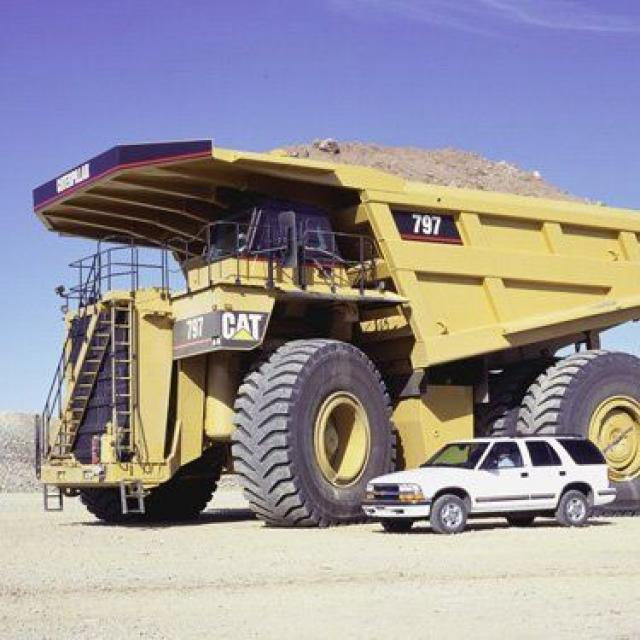dump_truck: (27, 124, 638, 526)
light_vehicle: (343, 422, 620, 534)
